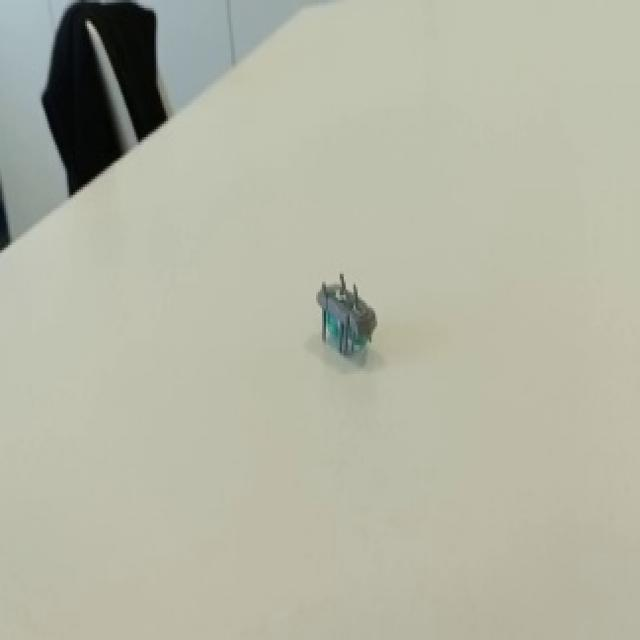5_NanoBug_GrisClaro: (294, 252, 404, 377)
